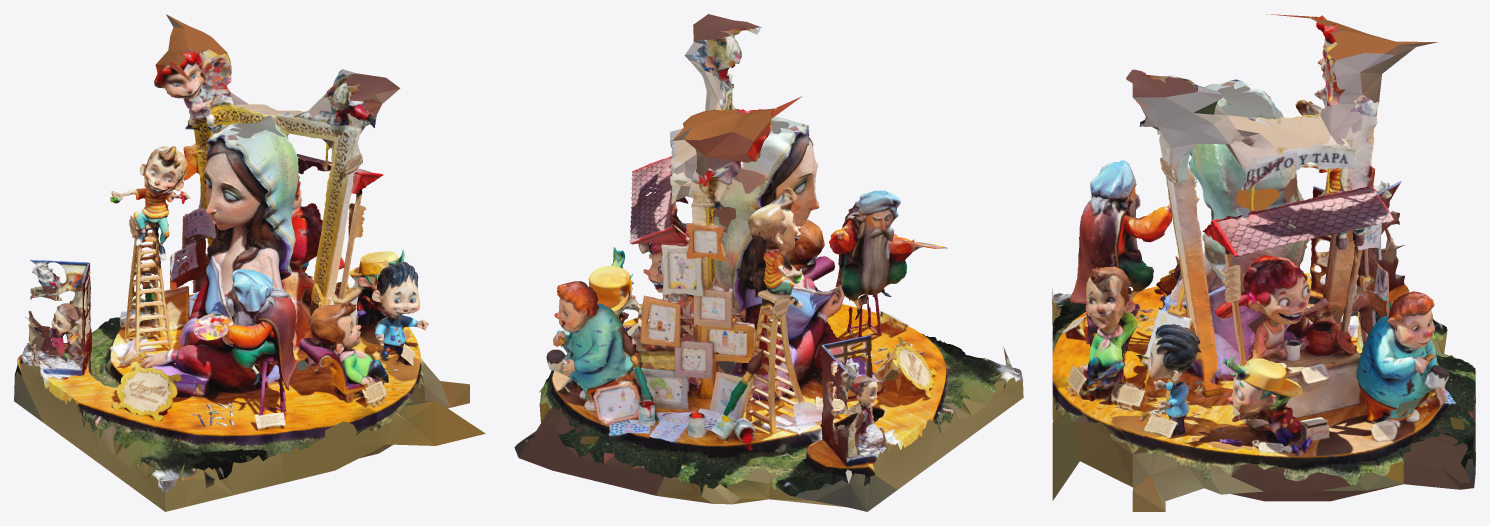
Rendered from falla_infantil_segrelles_2024_-_test_small_ULTRA_30.glb.
3 views of the same model, side by side, from view 1: azimuth 30°, elevation 25°; view 2: azimuth 150°, elevation 25°; view 3: azimuth 270°, elevation 25° (orthographic). The views are drawn at different scales.
Size of the model in its own units: 2.94 by 2.74 by 2.79.
1 material, 1 textured.
